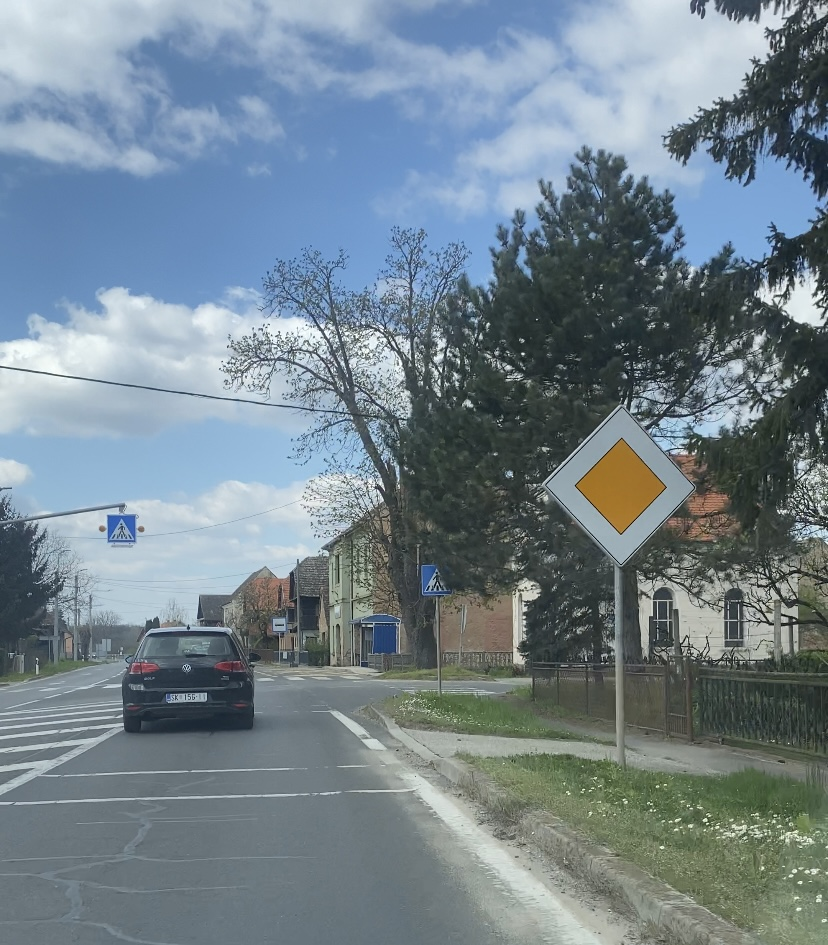Cesta s prednošću prolaska: (542, 405, 697, 569)
Pješački prijelaz: (107, 515, 136, 543)
